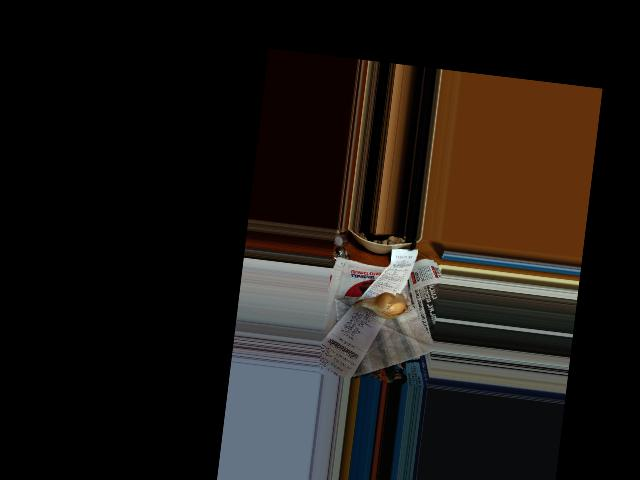onion: (359, 289, 408, 321)
